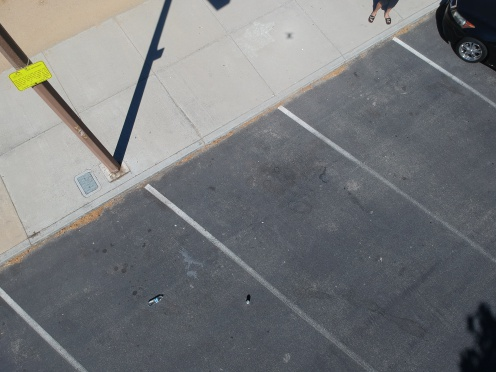bottle: (139, 288, 169, 310)
can: (244, 297, 254, 305)
